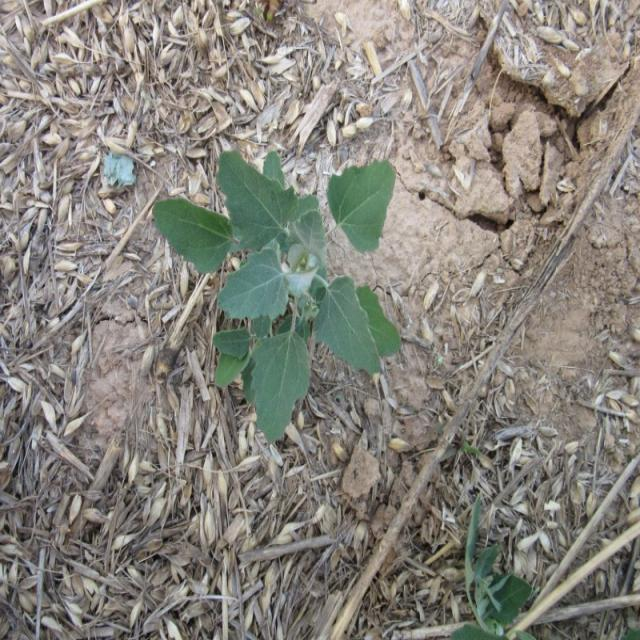ca: (156, 154, 406, 437)
